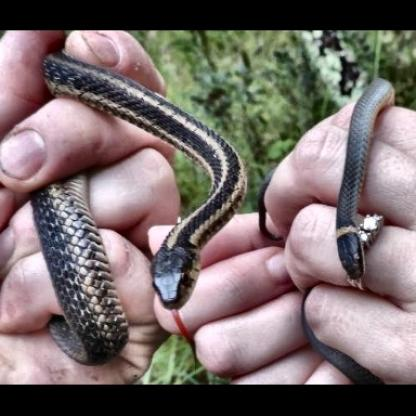Snake: (20, 35, 253, 370), (317, 61, 402, 297), (129, 187, 238, 316)
